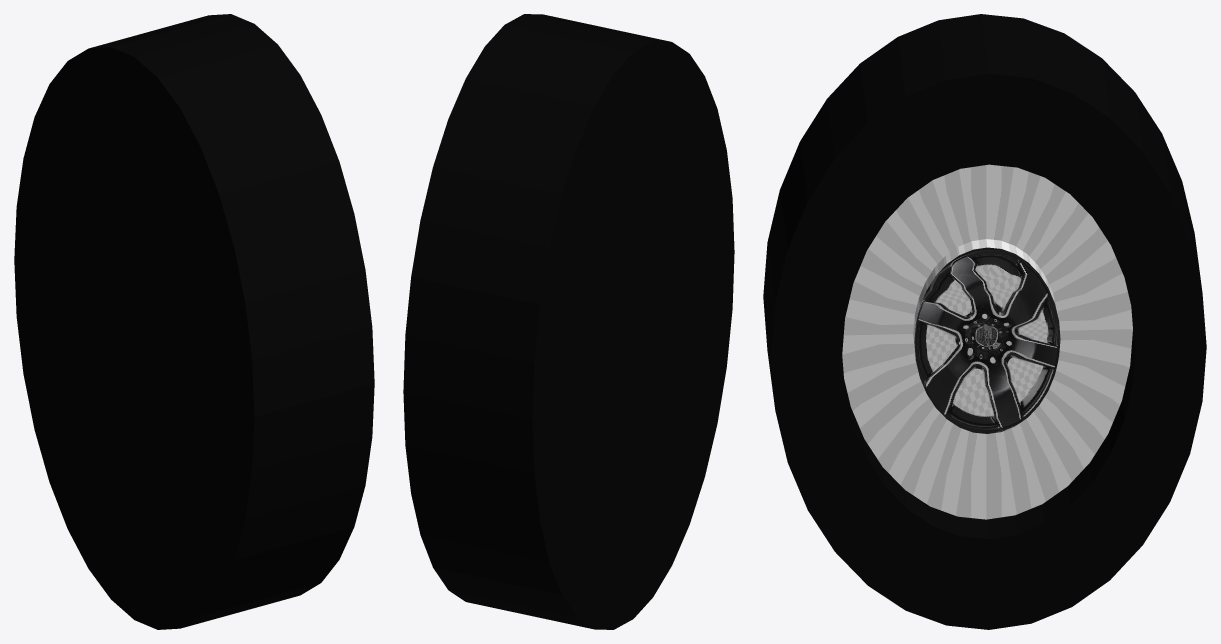
The model's file is llantaTEXTU2.obj.
The picture shows the model from 3 angles, left to right: view 1: azimuth 30°, elevation 25°; view 2: azimuth 150°, elevation 25°; view 3: azimuth 270°, elevation 25°; orthographic projection.
Visible parts, largest first — view 1: Cylinder.010_Cylinder.008; view 2: Cylinder.010_Cylinder.008; view 3: Cylinder.010_Cylinder.008, Cylinder.011_Cylinder.013.
Boxes of the visible parts, left/top/right/bottom form: Cylinder.010_Cylinder.008: left=14, top=14, right=374, bottom=629; Cylinder.010_Cylinder.008: left=403, top=14, right=734, bottom=629; Cylinder.010_Cylinder.008: left=763, top=14, right=1206, bottom=629; Cylinder.011_Cylinder.013: left=842, top=164, right=1132, bottom=519.
Size of the model in its own units: 0.45 by 1.68 by 1.22.
